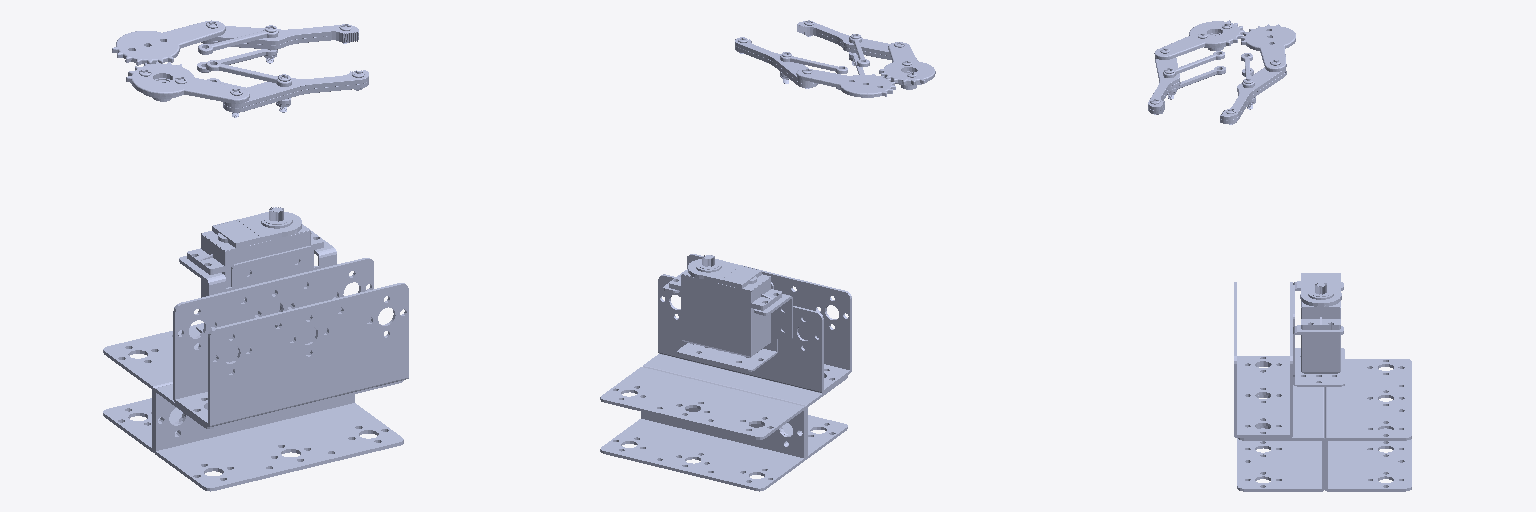
The robot description file, URDF, robot "robotic_arm_6dof":
<?xml version="1.0" encoding="utf-8"?>
<!-- This URDF was automatically created by SolidWorks to URDF Exporter! Originally created by [author] ([email redacted]) 
     Commit Version: 1.6.0-4-g7f85cfe  Build Version: 1.6.7995.38578
     For more information, please see http://wiki.ros.org/sw_urdf_exporter -->
<robot
  name="robotic_arm_6dof">
  <link
    name="base_link">
    <inertial>
      <origin
        xyz="-0.160748808307766 -0.00741797832213025 -0.088360649318168"
        rpy="0 0 0" />
      <mass
        value="0.0763754463040628" />
      <inertia
        ixx="4.23953757303269E-05"
        ixy="-9.86232282095576E-12"
        ixz="6.65031103528841E-08"
        iyy="1.87712760672681E-05"
        iyz="7.17319272491096E-08"
        izz="3.99044935666079E-05" />
    </inertial>
    <visual>
      <origin
        xyz="0 0 0"
        rpy="0 0 0" />
      <geometry>
        <mesh
          filename="package://robotic_arm_6dof/meshes/base_link.STL" />
      </geometry>
      <material
        name="">
        <color
          rgba="0.792156862745098 0.819607843137255 0.933333333333333 1" />
      </material>
    </visual>
    <collision>
      <origin
        xyz="0 0 0"
        rpy="0 0 0" />
      <geometry>
        <mesh
          filename="package://robotic_arm_6dof/meshes/base_link.STL" />
      </geometry>
    </collision>
  </link>
  <link
    name="base_rotator">
    <inertial>
      <origin
        xyz="0.0136091822020193 0.000265822789707187 0.0127057602834607"
        rpy="0 0 0" />
      <mass
        value="0.0393066448790151" />
      <inertia
        ixx="8.94291156894741E-06"
        ixy="-7.16990812231746E-08"
        ixz="6.78884235910539E-12"
        iyy="1.17467155572598E-05"
        iyz="-6.65028867021334E-08"
        izz="1.13233060126383E-05" />
    </inertial>
    <visual>
      <origin
        xyz="0 0 0"
        rpy="0 0 0" />
      <geometry>
        <mesh
          filename="package://robotic_arm_6dof/meshes/base_rotator.STL" />
      </geometry>
      <material
        name="">
        <color
          rgba="0.792156862745098 0.819607843137255 0.933333333333333 1" />
      </material>
    </visual>
    <collision>
      <origin
        xyz="0 0 0"
        rpy="0 0 0" />
      <geometry>
        <mesh
          filename="package://robotic_arm_6dof/meshes/base_rotator.STL" />
      </geometry>
    </collision>
  </link>
  <joint
    name="base_rotator_joint"
    type="continuous">
    <origin
      xyz="-0.15562 -0.016822 -0.042262"
      rpy="0 0 -0.28913" />
    <parent
      link="base_link" />
    <child
      link="base_rotator" />
    <axis
      xyz="0 0 -1" />
  </joint>
  <link
    name="shoulder_link">
    <inertial>
      <origin
        xyz="-0.00542737331091207 0.0207591340660911 0.0514605309104713"
        rpy="0 0 0" />
      <mass
        value="0.0144514859726596" />
      <inertia
        ixx="1.17337857012936E-05"
        ixy="1.61790596037335E-06"
        ixz="1.04410809662612E-12"
        iyy="5.96847210302326E-06"
        iyz="1.47468699935973E-12"
        izz="7.98191938878511E-06" />
    </inertial>
    <visual>
      <origin
        xyz="0 0 0"
        rpy="0 0 0" />
      <geometry>
        <mesh
          filename="package://robotic_arm_6dof/meshes/shoulder_link.STL" />
      </geometry>
      <material
        name="">
        <color
          rgba="0.792156862745098 0.819607843137255 0.933333333333333 1" />
      </material>
    </visual>
    <collision>
      <origin
        xyz="0 0 0"
        rpy="0 0 0" />
      <geometry>
        <mesh
          filename="package://robotic_arm_6dof/meshes/shoulder_link.STL" />
      </geometry>
    </collision>
  </link>
  <joint
    name="shoulder_joint"
    type="revolute">
    <origin
      xyz="0.001501 -0.0236 0.0201"
      rpy="0.12148 -0.43402 -0.28254" />
    <parent
      link="base_rotator" />
    <child
      link="shoulder_link" />
    <axis
      xyz="-0.25294 0.96748 0" />
    <limit
      lower="-1.57"
      upper="1.57"
      effort="0"
      velocity="0" />
  </joint>
  <link
    name="elbow_Link">
    <inertial>
      <origin
        xyz="0.0179850825088401 0.0231349067362636 -0.000816047063876363"
        rpy="0 0 0" />
      <mass
        value="0.0420586657729736" />
      <inertia
        ixx="9.19057415809374E-06"
        ixy="-2.07862091149447E-08"
        ixz="-8.86211668419417E-08"
        iyy="8.80316220324554E-06"
        iyz="-7.91496258450743E-08"
        izz="1.49766403640064E-05" />
    </inertial>
    <visual>
      <origin
        xyz="0 0 0"
        rpy="0 0 0" />
      <geometry>
        <mesh
          filename="package://robotic_arm_6dof/meshes/elbow_Link.STL" />
      </geometry>
      <material
        name="">
        <color
          rgba="0.792156862745098 0.819607843137255 0.933333333333333 1" />
      </material>
    </visual>
    <collision>
      <origin
        xyz="0 0 0"
        rpy="0 0 0" />
      <geometry>
        <mesh
          filename="package://robotic_arm_6dof/meshes/elbow_Link.STL" />
      </geometry>
    </collision>
  </link>
  <joint
    name="elbow_joint"
    type="revolute">
    <origin
      xyz="-0.000720890128520002 0.0027573206963649 0.103"
      rpy="0.109466615902697 -0.677396307197321 0.0821328070422031" />
    <parent
      link="shoulder_link" />
    <child
      link="elbow_Link" />
    <axis
      xyz="-0.134583598084368 0.990902242971861 0" />
    <limit
      lower="-1.57"
      upper="1.57"
      effort="0"
      velocity="0" />
  </joint>
  <link
    name="wrist_Link">
    <inertial>
      <origin
        xyz="0.0201661642819521 0.0185253919729509 0.0134765430950954"
        rpy="0 0 0" />
      <mass
        value="0.0644141323115809" />
      <inertia
        ixx="1.0619854325748E-05"
        ixy="-1.43463626130247E-07"
        ixz="6.65104745661783E-08"
        iyy="1.06200186270456E-05"
        iyz="6.65111783188749E-08"
        izz="1.71013472797244E-05" />
    </inertial>
    <visual>
      <origin
        xyz="0 0 0"
        rpy="0 0 0" />
      <geometry>
        <mesh
          filename="package://robotic_arm_6dof/meshes/wrist_Link.STL" />
      </geometry>
      <material
        name="">
        <color
          rgba="0.792156862745098 0.819607843137255 0.933333333333333 1" />
      </material>
    </visual>
    <collision>
      <origin
        xyz="0 0 0"
        rpy="0 0 0" />
      <geometry>
        <mesh
          filename="package://robotic_arm_6dof/meshes/wrist_Link.STL" />
      </geometry>
    </collision>
  </link>
  <joint
    name="wrist_joint"
    type="revolute">
    <origin
      xyz="0.0957085548832958 0.0123430961736119 0.00149999999999995"
      rpy="0 1.15689373274673 0.134993225634174" />
    <parent
      link="elbow_Link" />
    <child
      link="wrist_Link" />
    <axis
      xyz="0 1 0" />
    <limit
      lower="-1.57"
      upper="1.57"
      effort="0"
      velocity="0" />
  </joint>
  <link
    name="end_base">
    <inertial>
      <origin
        xyz="0.0291048300694188 -0.0219227058945996 -0.0182001290221276"
        rpy="0 0 0" />
      <mass
        value="0.0345345547168646" />
      <inertia
        ixx="8.00021100531572E-06"
        ixy="4.63252693135927E-09"
        ixz="4.00541184882921E-13"
        iyy="4.78420683454556E-06"
        iyz="-7.17154389145337E-08"
        izz="5.91653043542266E-06" />
    </inertial>
    <visual>
      <origin
        xyz="0 0 0"
        rpy="0 0 0" />
      <geometry>
        <mesh
          filename="package://robotic_arm_6dof/meshes/end_base.STL" />
      </geometry>
      <material
        name="">
        <color
          rgba="0.792156862745098 0.819607843137255 0.933333333333333 1" />
      </material>
    </visual>
    <collision>
      <origin
        xyz="0 0 0"
        rpy="0 0 0" />
      <geometry>
        <mesh
          filename="package://robotic_arm_6dof/meshes/end_base.STL" />
      </geometry>
    </collision>
  </link>
  <joint
    name="end_joint"
    type="revolute">
    <origin
      xyz="0.0545990000041253 0.0259989999957502 0.0269999999957503"
      rpy="0.0529233606550124 0 0" />
    <parent
      link="wrist_Link" />
    <child
      link="end_base" />
    <axis
      xyz="-1 0 0" />
    <limit
      lower="-1.57"
      upper="1.57"
      effort="0"
      velocity="0" />
  </joint>
  <link
    name="gear_right">
    <inertial>
      <origin
        xyz="0.00522210775020111 0.000121761120217403 0.000637835367012118"
        rpy="0 0 0" />
      <mass
        value="0.00207956891883696" />
      <inertia
        ixx="6.18312305314825E-08"
        ixy="2.9040733035334E-09"
        ixz="-1.07678319362615E-12"
        iyy="2.47299851403229E-07"
        iyz="4.77479240020125E-12"
        izz="3.06156104591973E-07" />
    </inertial>
    <visual>
      <origin
        xyz="0 0 0"
        rpy="0 0 0" />
      <geometry>
        <mesh
          filename="package://robotic_arm_6dof/meshes/gear_right.STL" />
      </geometry>
      <material
        name="">
        <color
          rgba="0.792156862745098 0.819607843137255 0.933333333333333 1" />
      </material>
    </visual>
    <collision>
      <origin
        xyz="0 0 0"
        rpy="0 0 0" />
      <geometry>
        <mesh
          filename="package://robotic_arm_6dof/meshes/gear_right.STL" />
      </geometry>
    </collision>
  </link>
  <joint
    name="gear_right_joint"
    type="revolute">
    <origin
      xyz="0.03 -0.015741 0.0043"
      rpy="0 0 -0.60373" />
    <parent
      link="end_base" />
    <child
      link="gear_right" />
    <axis
      xyz="0 0 -1" />
    <limit
      lower="-1.57"
      upper="1.57"
      effort="0"
      velocity="0" />
  </joint>
  <link
    name="finger_right">
    <inertial>
      <origin
        xyz="0.0222749786582408 -0.00229862724332237 -0.00449696732193056"
        rpy="0 0 0" />
      <mass
        value="0.00221856156382406" />
      <inertia
        ixx="3.8168362729864E-08"
        ixy="9.48550472979781E-08"
        ixz="-1.55713868214021E-13"
        iyy="5.21693961792075E-07"
        iyz="1.51260953346411E-16"
        izz="5.52361046133005E-07" />
    </inertial>
    <visual>
      <origin
        xyz="0 0 0"
        rpy="0 0 0" />
      <geometry>
        <mesh
          filename="package://robotic_arm_6dof/meshes/finger_right.STL" />
      </geometry>
      <material
        name="">
        <color
          rgba="0.792156862745098 0.819607843137255 0.933333333333333 1" />
      </material>
    </visual>
    <collision>
      <origin
        xyz="0 0 0"
        rpy="0 0 0" />
      <geometry>
        <mesh
          filename="package://robotic_arm_6dof/meshes/finger_right.STL" />
      </geometry>
    </collision>
  </link>
  <joint
    name="finger_right_joint"
    type="revolute">
    <origin
      xyz="0.030762 0 0.0025"
      rpy="0 0 0.98133" />
    <parent
      link="gear_right" />
    <child
      link="finger_right" />
    <axis
      xyz="0 0 1" />
    <limit
      lower="-1.57"
      upper="1.57"
      effort="0"
      velocity="0" />
    <mimic
      joint="gear_right_joint"
      multiplier="1"
      offset="0" />
  </joint>
  <link
    name="gear_left">
    <inertial>
      <origin
        xyz="0.00742875873647911 -0.000173281374520518 -0.0011045371319465"
        rpy="0 0 0" />
      <mass
        value="0.00146187481822585" />
      <inertia
        ixx="4.66933745433603E-08"
        ixy="-2.78602520296168E-09"
        ixz="1.81888424446724E-12"
        iyy="2.37227324448417E-07"
        iyz="-4.73125416228374E-12"
        izz="2.82953106359871E-07" />
    </inertial>
    <visual>
      <origin
        xyz="0 0 0"
        rpy="0 0 0" />
      <geometry>
        <mesh
          filename="package://robotic_arm_6dof/meshes/gear_left.STL" />
      </geometry>
      <material
        name="">
        <color
          rgba="0.792156862745098 0.819607843137255 0.933333333333333 1" />
      </material>
    </visual>
    <collision>
      <origin
        xyz="0 0 0"
        rpy="0 0 0" />
      <geometry>
        <mesh
          filename="package://robotic_arm_6dof/meshes/gear_left.STL" />
      </geometry>
    </collision>
  </link>
  <joint
    name="gear_left_joint"
    type="revolute">
    <origin
      xyz="0.0305 0.01226 0.0068"
      rpy="0 0 0.3732" />
    <parent
      link="end_base" />
    <child
      link="gear_left" />
    <axis
      xyz="0 0 -1" />
    <limit
      lower="-1.57"
      upper="1.57"
      effort="0"
      velocity="0" />
    <mimic
      joint="gear_right_joint"
      multiplier="-1"
      offset="0" />
  </joint>
  <link
    name="finger_left">
    <inertial>
      <origin
        xyz="0.0224117829979157 0.00231258624567058 -0.00446850609130195"
        rpy="0 0 0" />
      <mass
        value="0.00220506613383814" />
      <inertia
        ixx="3.77773345499567E-08"
        ixy="-9.48534895099289E-08"
        ixz="2.72215152298512E-13"
        iyy="5.21302462663036E-07"
        iyz="-1.42086394163337E-14"
        izz="5.52347265627548E-07" />
    </inertial>
    <visual>
      <origin
        xyz="0 0 0"
        rpy="0 0 0" />
      <geometry>
        <mesh
          filename="package://robotic_arm_6dof/meshes/finger_left.STL" />
      </geometry>
      <material
        name="">
        <color
          rgba="0.792156862745098 0.819607843137255 0.933333333333333 1" />
      </material>
    </visual>
    <collision>
      <origin
        xyz="0 0 0"
        rpy="0 0 0" />
      <geometry>
        <mesh
          filename="package://robotic_arm_6dof/meshes/finger_left.STL" />
      </geometry>
    </collision>
  </link>
  <joint
    name="finger_left_joint"
    type="revolute">
    <origin
      xyz="0.030762 0 0"
      rpy="0 0 -0.68869" />
    <parent
      link="gear_left" />
    <child
      link="finger_left" />
    <axis
      xyz="0 0 1" />
    <limit
      lower="-1.57"
      upper="1.57"
      effort="0"
      velocity="0" />
    <mimic
      joint="gear_left_joint"
      multiplier="1"
      offset="0" />
  </joint>
  <link
    name="anchor_right">
    <inertial>
      <origin
        xyz="0.0149999999772549 2.32300290115006E-13 -0.00520000000000004"
        rpy="0 0 0" />
      <mass
        value="0.00040273621239968" />
      <inertia
        ixx="7.10894577642955E-10"
        ixy="4.82734850667704E-19"
        ixz="2.3164769576848E-17"
        iyy="4.947065575232E-08"
        iyz="-1.16657004682848E-17"
        izz="4.99214388440103E-08" />
    </inertial>
    <visual>
      <origin
        xyz="0 0 0"
        rpy="0 0 0" />
      <geometry>
        <mesh
          filename="package://robotic_arm_6dof/meshes/anchor_right.STL" />
      </geometry>
      <material
        name="">
        <color
          rgba="0.792156862745098 0.819607843137255 0.933333333333333 1" />
      </material>
    </visual>
    <collision>
      <origin
        xyz="0 0 0"
        rpy="0 0 0" />
      <geometry>
        <mesh
          filename="package://robotic_arm_6dof/meshes/anchor_right.STL" />
      </geometry>
    </collision>
  </link>
  <joint
    name="anchor_right_joint"
    type="revolute">
    <origin
      xyz="0.0525 -0.007 0.0068"
      rpy="0 0 -0.6321" />
    <parent
      link="end_base" />
    <child
      link="anchor_right" />
    <axis
      xyz="0 0 -1" />
    <limit
      lower="-1.57"
      upper="1.57"
      effort="0"
      velocity="0" />
    <mimic
      joint="gear_right_joint"
      multiplier="1"
      offset="0" />
  </joint>
  <link
    name="anchor_left">
    <inertial>
      <origin
        xyz="0.0149999999555894 3.27828042490097E-14 -0.00520000000000001"
        rpy="0 0 0" />
      <mass
        value="0.000402736212399681" />
      <inertia
        ixx="7.10894577224504E-10"
        ixy="-2.91276563126718E-20"
        ixz="2.28948117330554E-18"
        iyy="4.94706557524056E-08"
        iyz="-2.27182309736382E-17"
        izz="4.99214388436773E-08" />
    </inertial>
    <visual>
      <origin
        xyz="0 0 0"
        rpy="0 0 0" />
      <geometry>
        <mesh
          filename="package://robotic_arm_6dof/meshes/anchor_left.STL" />
      </geometry>
      <material
        name="">
        <color
          rgba="0.792156862745098 0.819607843137255 0.933333333333333 1" />
      </material>
    </visual>
    <collision>
      <origin
        xyz="0 0 0"
        rpy="0 0 0" />
      <geometry>
        <mesh
          filename="package://robotic_arm_6dof/meshes/anchor_left.STL" />
      </geometry>
    </collision>
  </link>
  <joint
    name="anchor_left_joint"
    type="revolute">
    <origin
      xyz="0.0525 0.007 0.0068"
      rpy="0 0 0.31658" />
    <parent
      link="end_base" />
    <child
      link="anchor_left" />
    <axis
      xyz="0 0 -1" />
    <limit
      lower="-1.57"
      upper="1.57"
      effort="0"
      velocity="0" />
    <mimic
      joint="gear_left_joint"
      multiplier="1"
      offset="0" />
  </joint>
</robot>

--- Facts derived from the render (not from the file) ---
The picture shows the robot from 3 angles, left to right: view 1: azimuth 30°, elevation 25°; view 2: azimuth 150°, elevation 25°; view 3: azimuth 270°, elevation 25°; orthographic projection.
Model robotic_arm_6dof with 12 links and 11 joints (10 revolute, 1 continuous), rooted at base_link, posed every joint at zero.
Visible links, largest first — view 1: base_link, gear_right, gear_left, finger_right, finger_left, anchor_left, anchor_right; view 2: base_link, gear_left, gear_right, finger_right, finger_left; view 3: base_link, gear_right, gear_left, finger_left, finger_right, anchor_right.
Link boxes in pixels (x1,y1,x2,y2): base_link: (103,207,408,491); gear_right: (126,61,249,103); gear_left: (112,20,225,65); finger_right: (223,70,368,117); finger_left: (201,21,358,63); anchor_left: (197,29,278,72); anchor_right: (206,60,291,104); base_link: (600,254,851,491); gear_left: (796,69,895,97); gear_right: (879,42,935,89); finger_right: (797,20,904,65); finger_left: (735,37,817,88); base_link: (1234,273,1411,491); gear_right: (1154,20,1244,59); gear_left: (1241,24,1295,71); finger_left: (1220,60,1286,124); finger_right: (1148,48,1180,114); anchor_right: (1163,51,1225,92).
Bounding box of the posed robot: 0.1289 × 0.127 × 0.1922 m (x, y, z).
7 mesh visuals loaded from 12 distinct referenced files (7 binary STL); not drawn: 5 (reference not matched to a file when rendering).